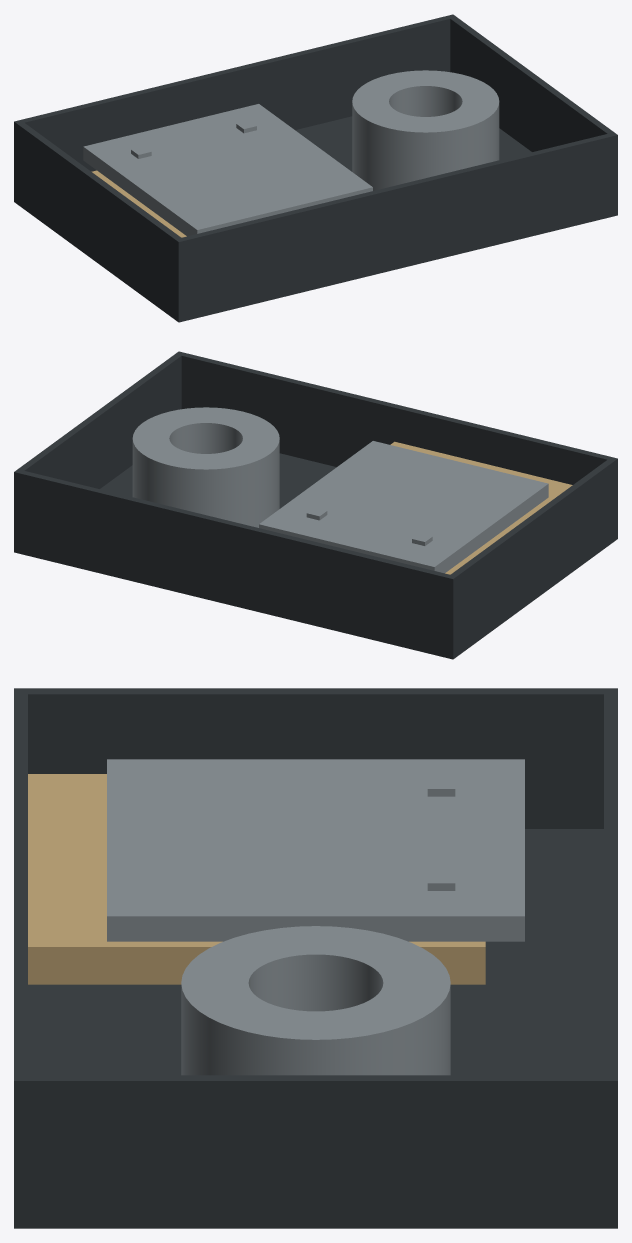
Rendered from repair_kit.glb.
3 renders of one model, top to bottom at view 1: azimuth 30°, elevation 25°; view 2: azimuth 150°, elevation 25°; view 3: azimuth 270°, elevation 25°, orthographic. The views are drawn at different scales.
Parts seen in each view (by area): view 1: equipment:repairKit; view 2: equipment:repairKit; view 3: equipment:repairKit.
Boxes of the visible parts, x1,y1,x2,y2 form: equipment:repairKit: (14, 14, 617, 322); equipment:repairKit: (14, 351, 617, 659); equipment:repairKit: (14, 688, 617, 1228).
Size of the model in its own units: 0.2 by 0.035 by 0.13.
